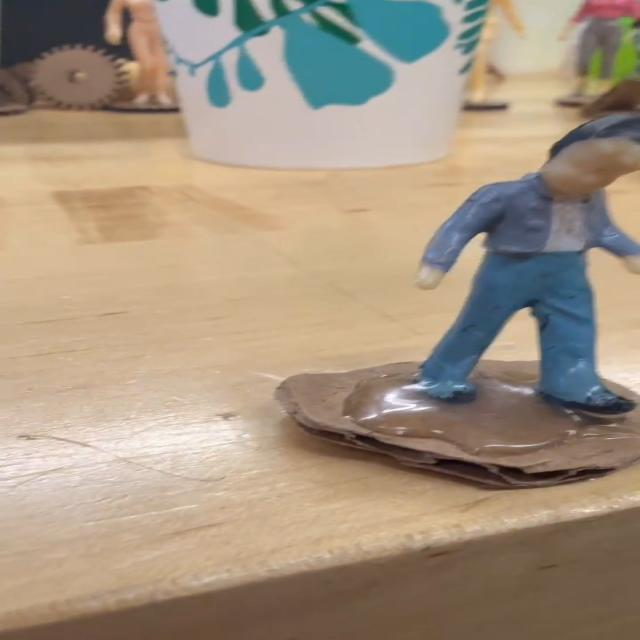Authorized: (422, 100, 640, 413)
